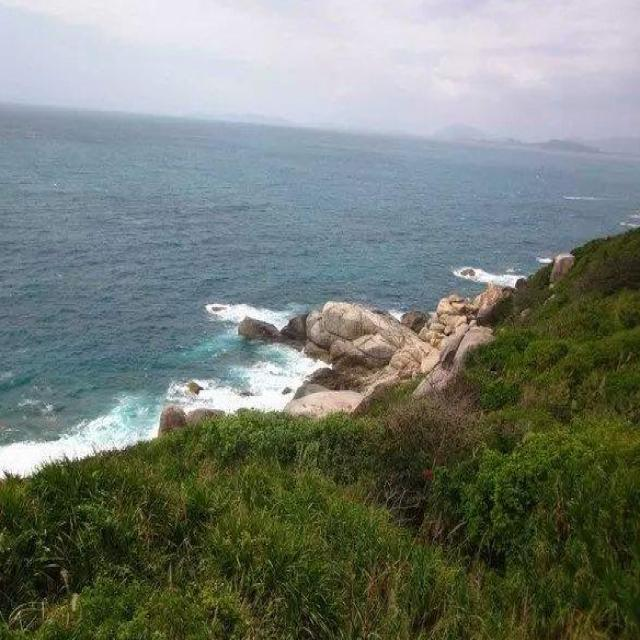reef: (255, 274, 436, 412)
